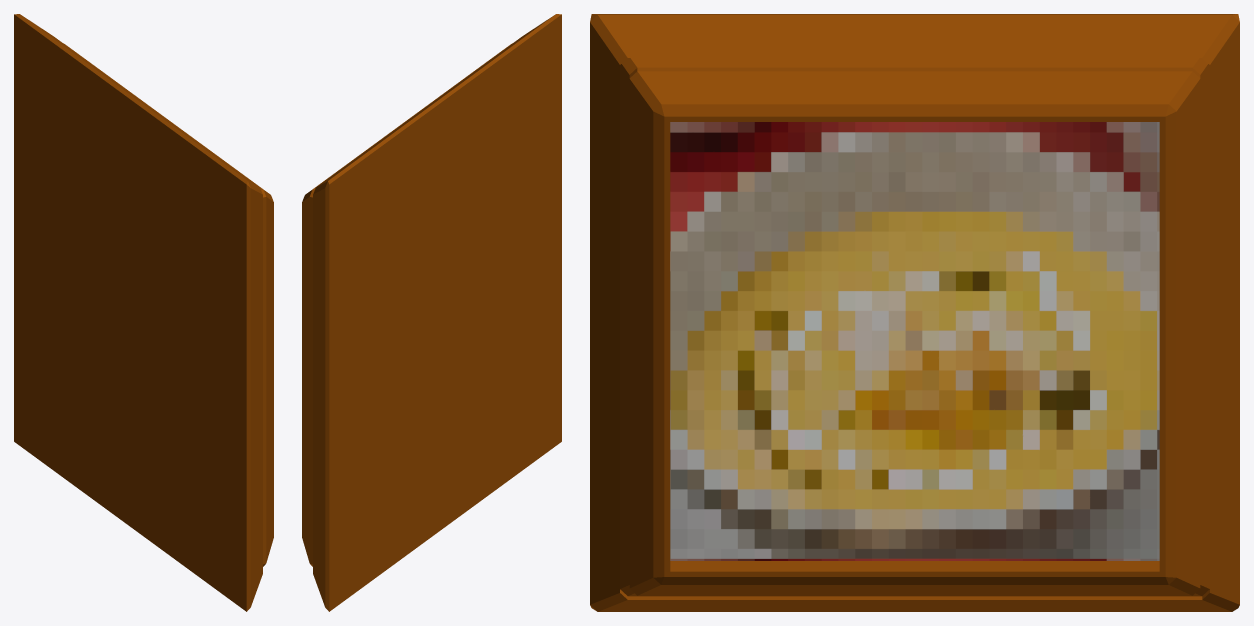
File: Image_KalabasaSoup.glb
3 renders of one model, left to right at view 1: azimuth 30°, elevation 25°; view 2: azimuth 150°, elevation 25°; view 3: azimuth 270°, elevation 25°, orthographic. The views are drawn at different scales.
Visible parts, largest first — view 1: Plane; view 2: Plane; view 3: Plane.
Boxes of the visible parts, box(x1,y1,x2,y2) form: Plane: box(14, 14, 273, 611); Plane: box(302, 14, 561, 611); Plane: box(590, 14, 1239, 611).
Bounding box in the file's own units: 0.0513 × 0.3996 × 0.3942.
2 materials, 1 textured.
